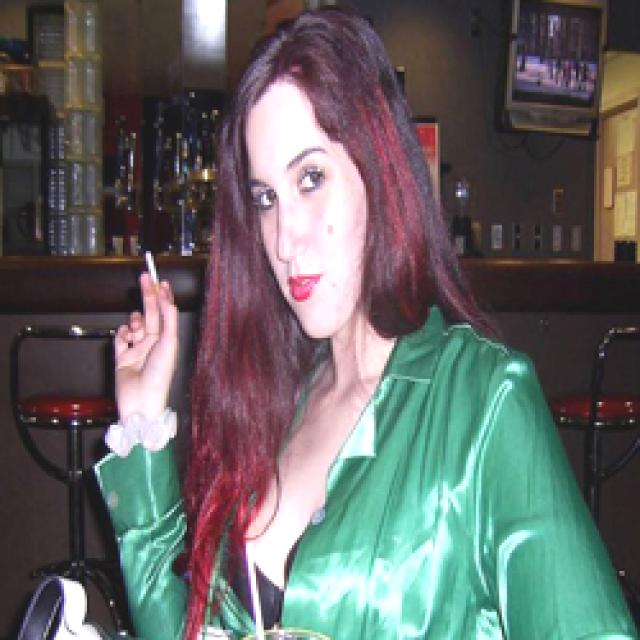Smooking: (141, 247, 171, 284)
